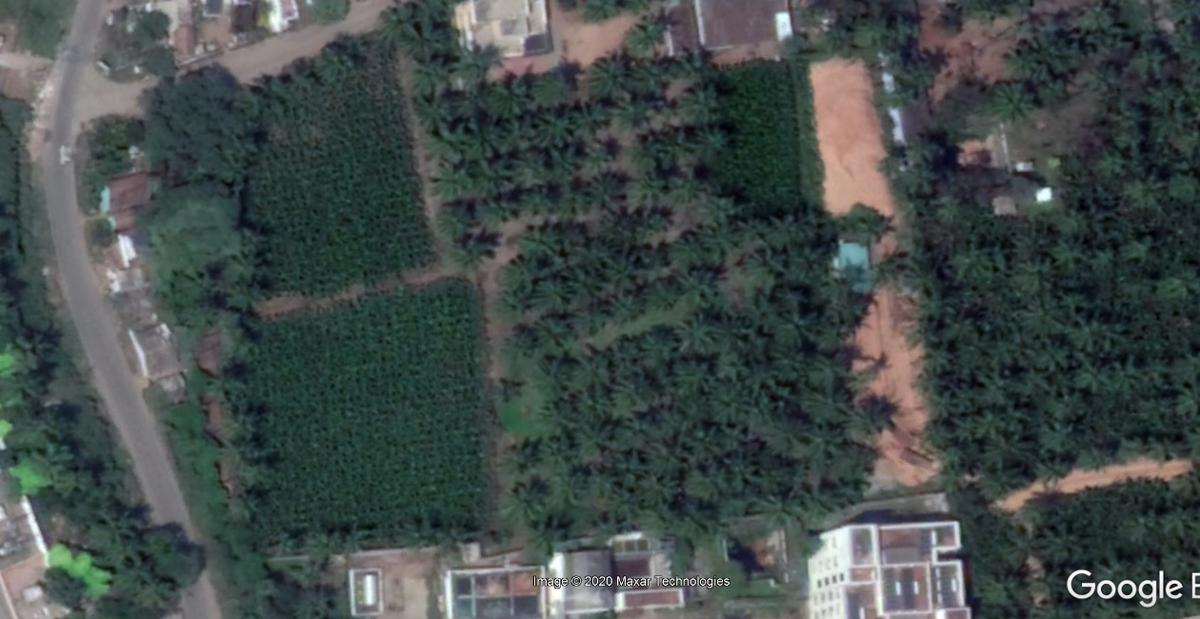coconut: (768, 296, 825, 349), (796, 371, 851, 425), (630, 322, 683, 370), (638, 470, 691, 514), (1037, 28, 1090, 72), (620, 3, 670, 49), (795, 467, 841, 517), (389, 12, 447, 50), (929, 309, 979, 353), (501, 246, 542, 299), (676, 311, 720, 359), (535, 107, 579, 154), (1056, 231, 1103, 275), (723, 450, 768, 494), (691, 114, 738, 156), (587, 176, 634, 218), (992, 78, 1034, 125), (429, 159, 470, 207), (562, 269, 611, 308), (1031, 524, 1080, 563), (580, 55, 628, 94), (487, 74, 539, 110), (582, 458, 632, 495), (651, 172, 707, 205), (1065, 353, 1116, 389), (681, 81, 725, 122), (1124, 176, 1168, 217), (571, 418, 617, 457), (573, 350, 620, 388), (651, 120, 688, 168), (408, 56, 460, 90), (569, 231, 611, 273), (492, 108, 533, 151), (734, 212, 777, 253), (1072, 311, 1122, 346), (1044, 421, 1079, 471), (1126, 41, 1168, 82), (509, 184, 560, 217), (411, 91, 453, 130), (945, 244, 990, 280), (476, 153, 511, 199), (607, 95, 657, 127), (1023, 331, 1064, 370), (1016, 296, 1063, 330), (532, 509, 574, 547), (920, 191, 963, 228), (443, 120, 489, 154), (856, 394, 897, 431), (540, 145, 582, 181), (539, 311, 580, 346), (630, 58, 668, 95), (575, 100, 614, 136), (1015, 262, 1056, 295), (707, 217, 739, 259), (791, 243, 830, 277), (675, 359, 716, 391), (711, 393, 757, 421), (670, 231, 700, 273), (430, 198, 471, 227), (967, 408, 1002, 439), (679, 45, 712, 77), (509, 440, 541, 472), (514, 332, 546, 362)
